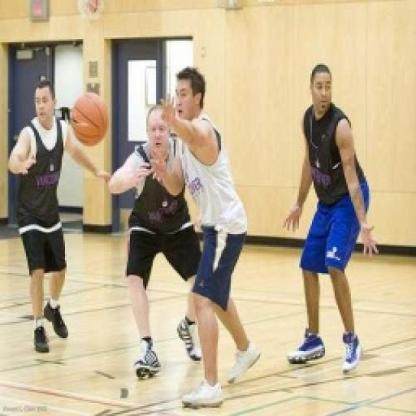basketball: (68, 90, 112, 150)
